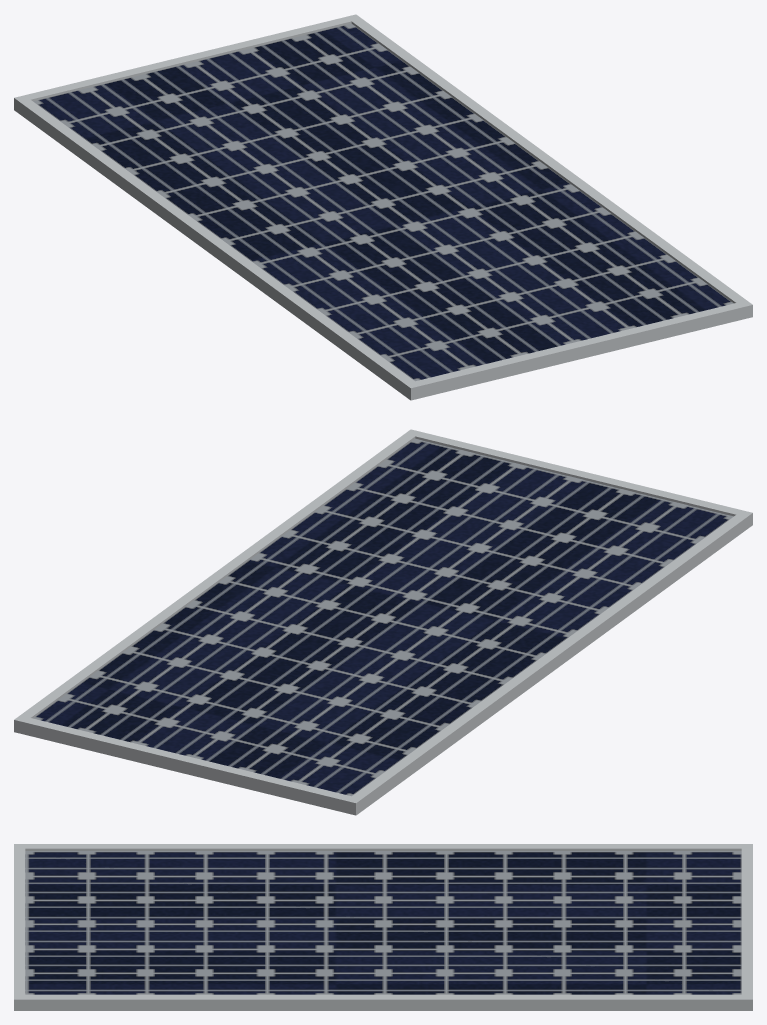
Rendered from modulo_fv.glb.
3 renders of one model, top to bottom at view 1: azimuth 30°, elevation 25°; view 2: azimuth 150°, elevation 25°; view 3: azimuth 270°, elevation 25°, orthographic. The views are drawn at different scales.
Parts seen in each view (by area): view 1: Módulo FV 550 Wp; view 2: Módulo FV 550 Wp; view 3: Módulo FV 550 Wp.
Boxes of the visible parts, x1=… form: Módulo FV 550 Wp: x1=14, y1=14, x2=752, y2=400; Módulo FV 550 Wp: x1=14, y1=429, x2=752, y2=815; Módulo FV 550 Wp: x1=14, y1=844, x2=752, y2=1010.
Size of the model in its own units: 1.13 by 0.06 by 2.28.
Materials: 3 (1 with a texture image).
